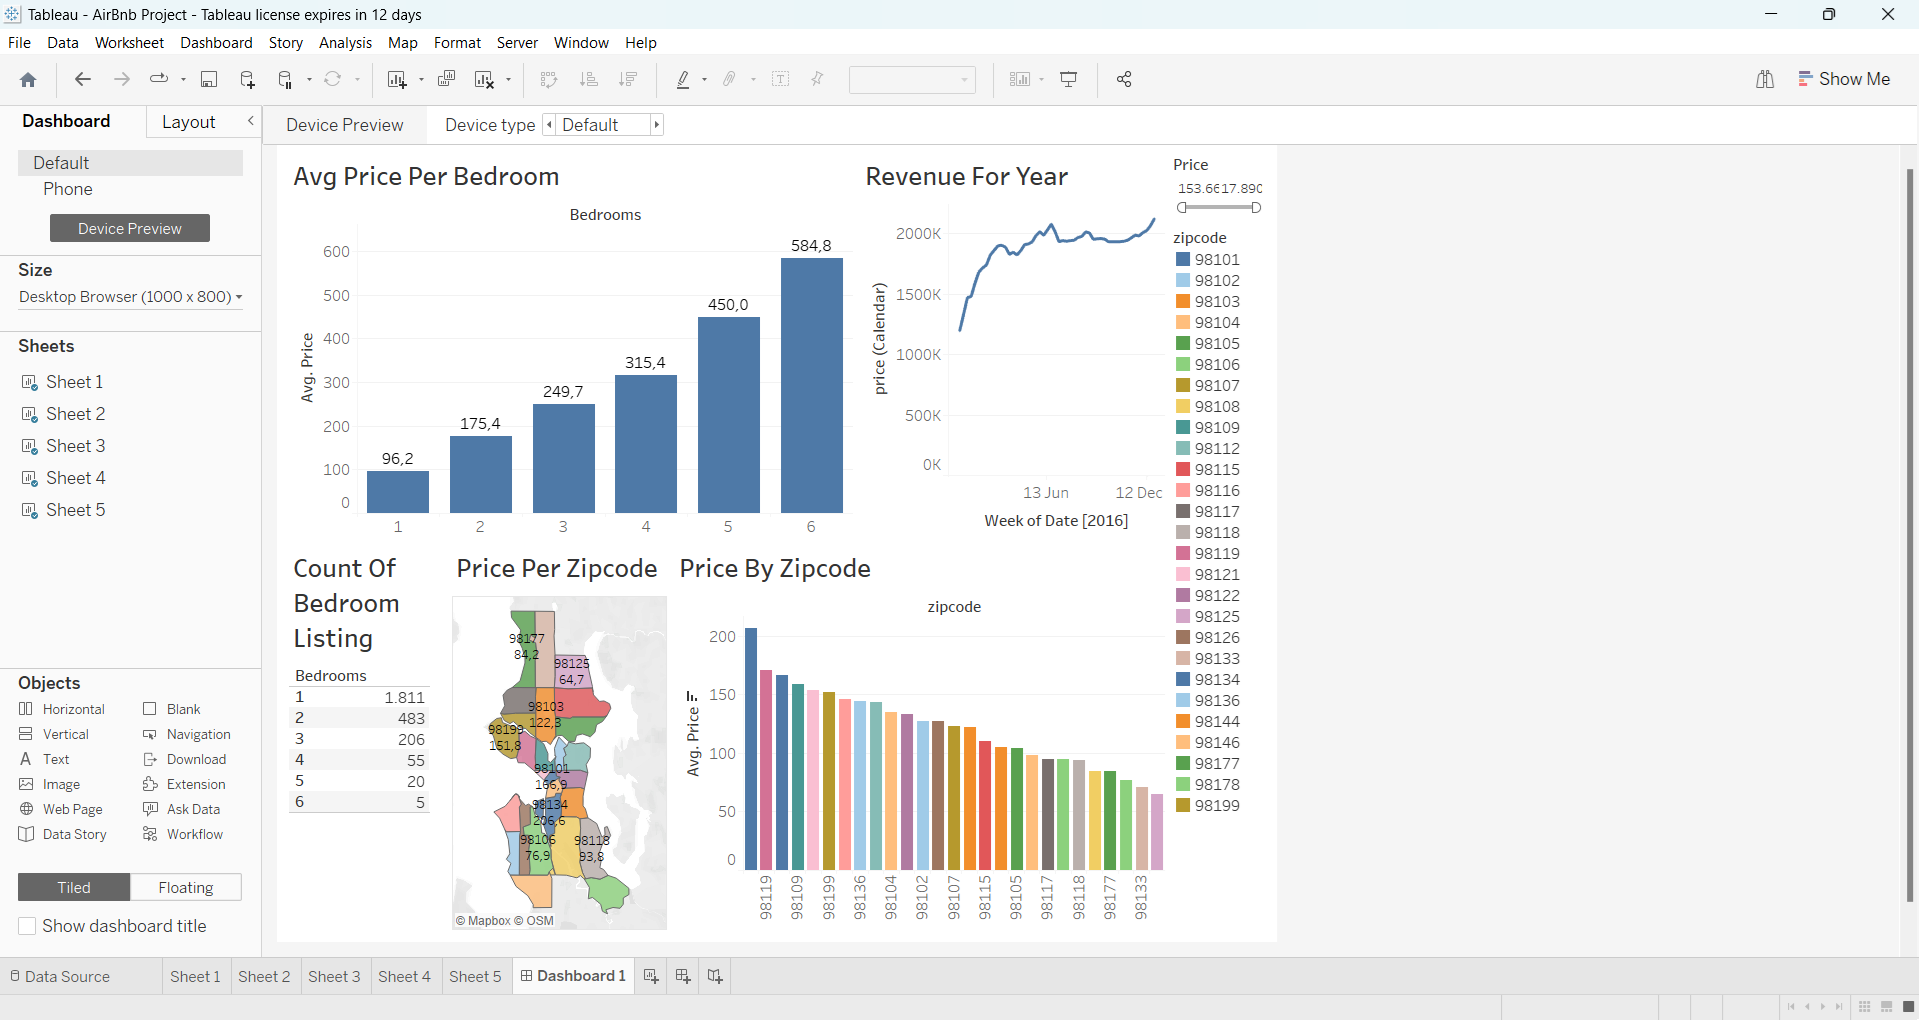

The page's visual inventory and layout, read from the dashboard file:
{"tool":"tableau","page":{"name":"Dashboard 1","canvas":[1000,800],"ordinal":0},"visuals":[{"type":"worksheet","title":"Sheet 4","mark":"Automatic","rows":["price"],"cols":["bedrooms"],"box":[8,8,572,392]},{"type":"worksheet","title":"Sheet 3","mark":"Automatic","rows":["price (Calendar)"],"cols":["date"],"box":[580,8,312,392]},{"type":"filter","title":"Sheet 1","param":"[federated.0wi6wlv01m865v1h8ulkv1c84zow].[sum:price:qk]","box":[892,8,100,73]},{"type":"legend","title":"Sheet 1","param":"[federated.0wi6wlv01m865v1h8ulkv1c84zow].[none:zipcode:ok]","box":[892,81,100,597]},{"type":"worksheet","title":"Sheet 5","mark":"Automatic","rows":["bedrooms"],"box":[8,400,163,392]},{"type":"worksheet","title":"Sheet 2","mark":"Multipolygon","box":[171,400,223,392]},{"type":"worksheet","title":"Sheet 1","mark":"Automatic","rows":["price"],"cols":["zipcode"],"box":[394,400,498,392]}]}

Visuals, with their boxes on the page's 1000x800 design canvas (x1, y1, x2, y2). These are canvas units, not pixel positions in the 1919x1020 screenshot, which may show the page scaled, cropped or inside an application window:
"Sheet 4" worksheet: 8/8/580/400
"Sheet 3" worksheet: 580/8/892/400
"Sheet 1" filter: 892/8/992/81
"Sheet 1" legend: 892/81/992/678
"Sheet 5" worksheet: 8/400/171/792
"Sheet 2" worksheet (Multipolygon marks): 171/400/394/792
"Sheet 1" worksheet: 394/400/892/792
